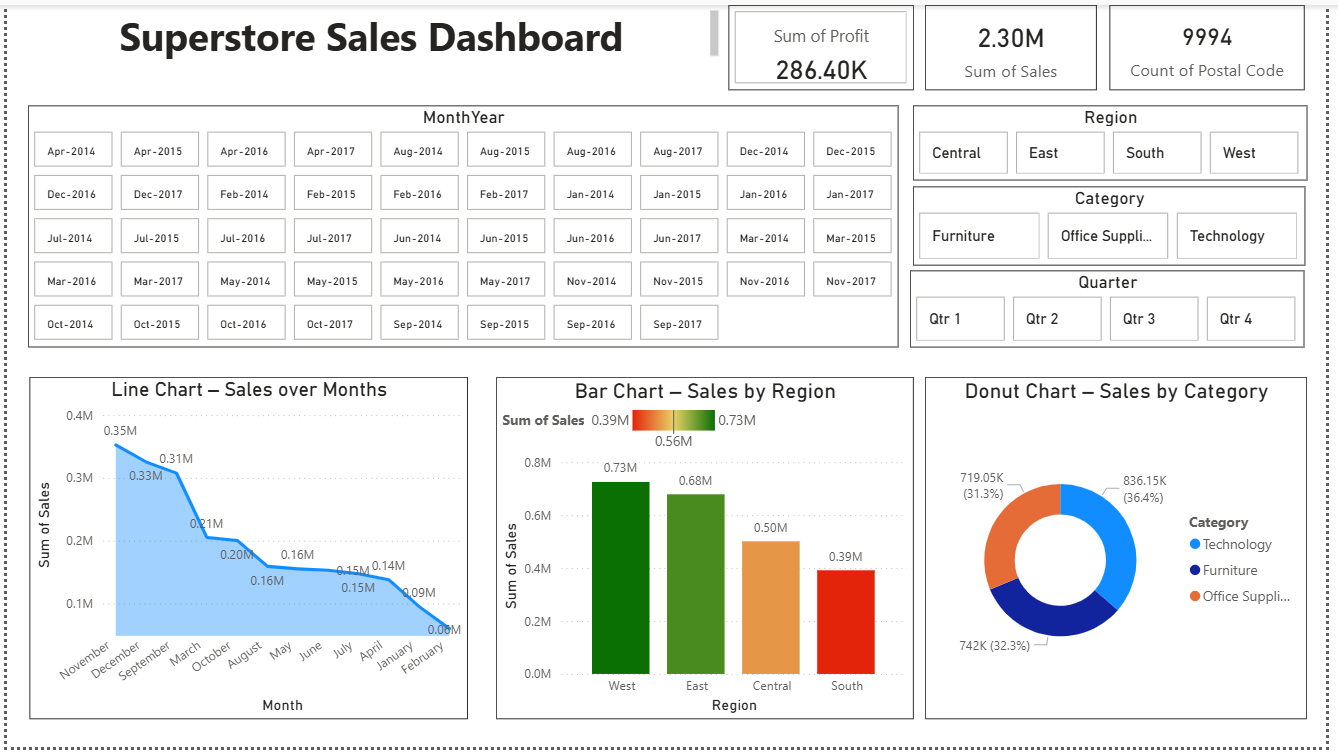

The dashboard page shown, as its layout file describes it:
{"tool":"powerbi","page":{"name":"Page 1","canvas":[1280,720],"ordinal":0},"visuals":[{"type":"lineChart","title":"Line Chart – Sales over Months","fields":{"Y":["Sum(Superstore_Cleaned.Sales)"],"Category":["Superstore_Cleaned.Order Date.Variation.Date Hierarchy.Month"]},"box":[22.3,360.5,425.3,332.2],"z":0},{"type":"advancedSlicerVisual","title":"MonthYear","fields":{"Values":["Superstore_Cleaned.MonthYear"]},"box":[20.3,97.2,844.6,234.9],"z":1000},{"type":"columnChart","title":"Bar Chart – Sales by Region","fields":{"Category":["Superstore_Cleaned.Region"],"Y":["Sum(Superstore_Cleaned.Sales)"]},"box":[473.9,360.5,405.1,332.2],"z":2000},{"type":"donutChart","title":"Donut Chart – Sales by Category","fields":{"Y":["Sum(Superstore_Cleaned.Sales)"],"Category":["Superstore_Cleaned.Category"]},"box":[891.1,360.5,370.6,332.2],"z":3000},{"type":"advancedSlicerVisual","fields":{"Values":["Superstore_Cleaned.Region"]},"box":[879,97.2,382.8,72.9],"z":4000},{"type":"advancedSlicerVisual","fields":{"Values":["Superstore_Cleaned.Category"]},"box":[879,176.2,380.8,77],"z":5000},{"type":"textbox","box":[21,0,675.2,56.7],"z":6000},{"type":"advancedSlicerVisual","fields":{"Values":["Superstore_Cleaned.Order Date.Variation.Date Hierarchy.Quarter"]},"box":[877,257.2,382.8,74.9],"z":7000},{"type":"cardVisual","fields":{"Data":["Sum(Superstore_Cleaned.Profit)"]},"box":[699.5,0,179.7,82.6],"z":8000},{"type":"card","fields":{"Values":["Sum(Superstore_Cleaned.Sales)"]},"box":[890.6,0,166.8,82.6],"z":9000},{"type":"card","fields":{"Values":["CountNonNull(Superstore_Cleaned.Postal Code)"]},"box":[1070.3,0,189.4,82.6],"z":10000}]}

Visuals, with their boxes in screenshot pixels (x1, y1, x2, y2), scaled from the page's 1280x720 canvas onto the 1338x754 screenshot:
"Line Chart – Sales over Months" lineChart: detection(23, 378, 468, 725)
"MonthYear" advancedSlicerVisual: detection(21, 102, 904, 348)
"Bar Chart – Sales by Region" columnChart: detection(495, 378, 919, 725)
"Donut Chart – Sales by Category" donutChart: detection(931, 378, 1319, 725)
advancedSlicerVisual - Superstore_Cleaned.Region: detection(919, 102, 1319, 178)
advancedSlicerVisual - Superstore_Cleaned.Category: detection(919, 185, 1317, 265)
textbox: detection(22, 0, 728, 59)
advancedSlicerVisual - Superstore_Cleaned.Order Date.Variation.Date Hierarchy.Quarter: detection(917, 269, 1317, 348)
cardVisual - Sum(Superstore_Cleaned.Profit): detection(731, 0, 919, 87)
card - Sum(Superstore_Cleaned.Sales): detection(931, 0, 1105, 87)
card - CountNonNull(Superstore_Cleaned.Postal Code): detection(1119, 0, 1317, 87)
